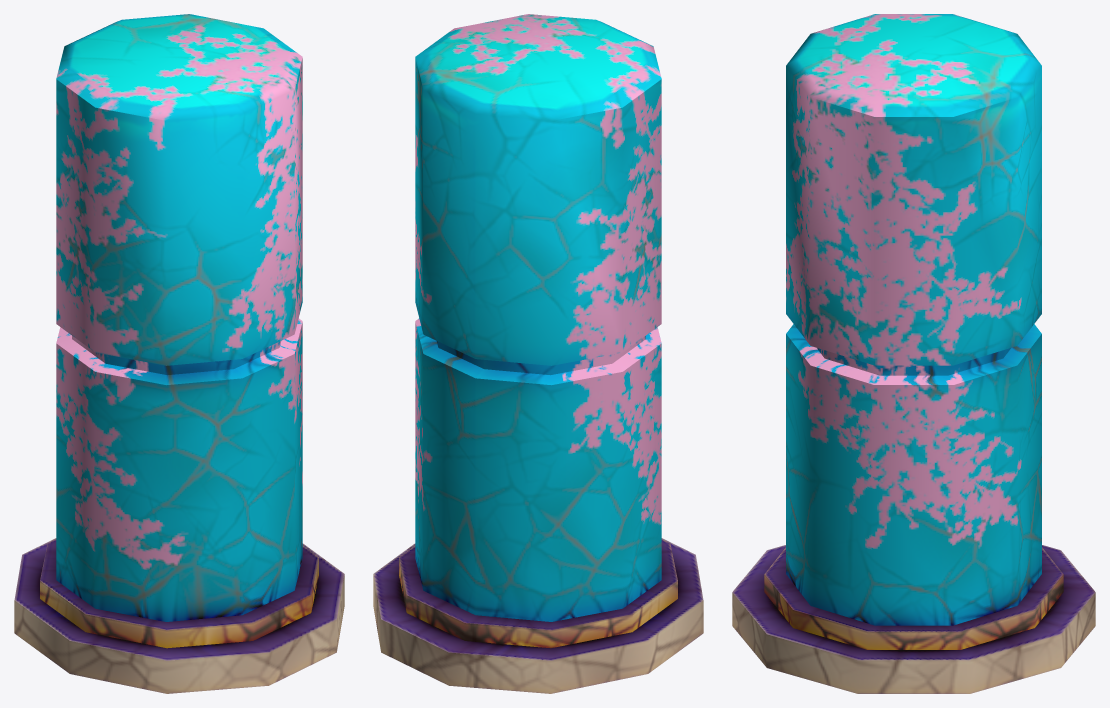
Rendered from Column_Vapor_01.glb.
3 views of the same model, side by side, from view 1: azimuth 30°, elevation 25°; view 2: azimuth 150°, elevation 25°; view 3: azimuth 270°, elevation 25° (orthographic).
Visible parts, largest first — view 1: Column_Vapor_01; view 2: Column_Vapor_01; view 3: Column_Vapor_01.
Boxes of the visible parts, left/top/right/bottom form: Column_Vapor_01: left=14, top=14, right=344, bottom=693; Column_Vapor_01: left=373, top=14, right=703, bottom=693; Column_Vapor_01: left=732, top=14, right=1095, bottom=693.
Size of the model in its own units: 1.67 by 3.27 by 1.88.
1 material, 1 textured.
